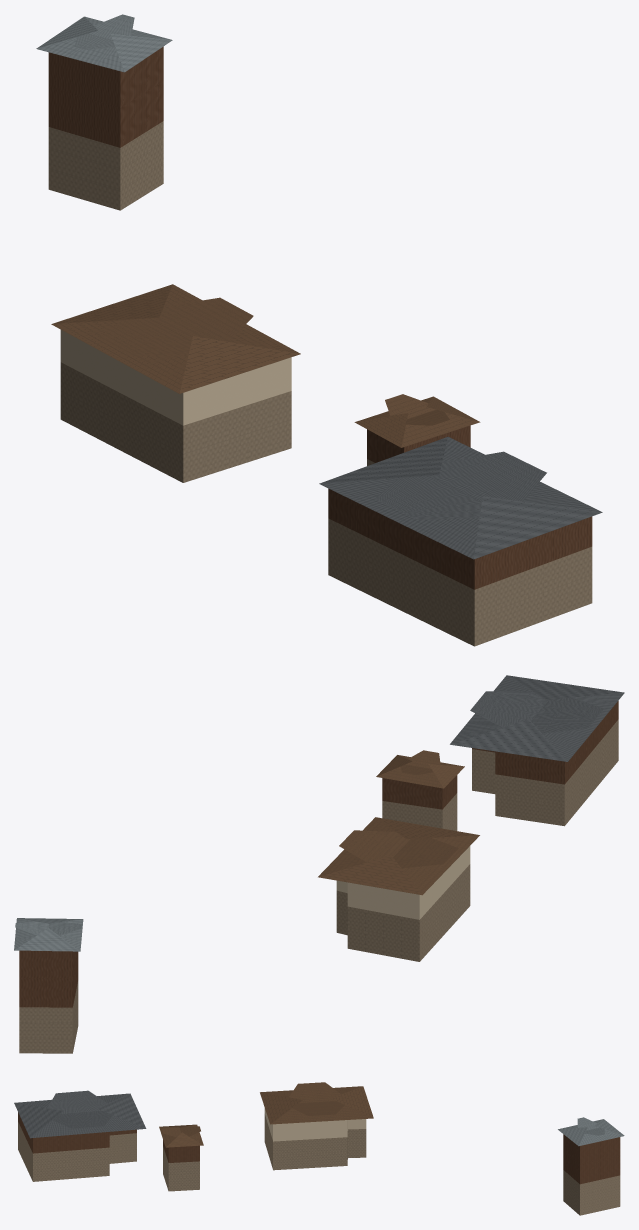
Rendered from bld_c33_44_241.gltf.
The picture shows the model from 3 angles, top to bottom: view 1: azimuth 30°, elevation 25°; view 2: azimuth 150°, elevation 25°; view 3: azimuth 270°, elevation 25°; orthographic projection. The views are drawn at different scales.
Parts seen in each view (by area): view 1: bld_c33_44_241; view 2: bld_c33_44_241; view 3: bld_c33_44_241.
Boxes of the visible parts, <box> form: bld_c33_44_241: <box>36,14,602,646</box>; bld_c33_44_241: <box>14,675,624,1053</box>; bld_c33_44_241: <box>14,1082,624,1215</box>.
Bounding box in the file's own units: 28.69 × 12.8 × 90.01.
6 materials, 6 textured.
